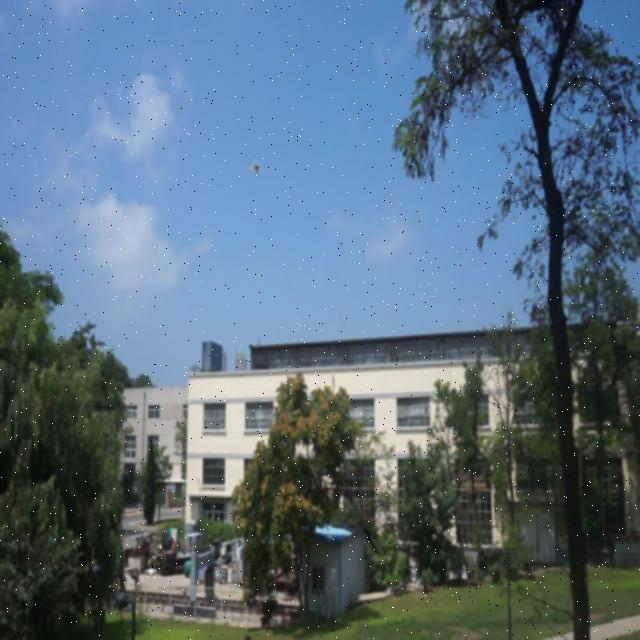UAV: (248, 159, 264, 175)
